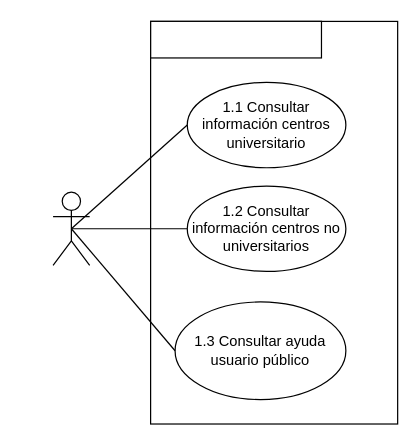
The diagram is 420 pixels wide and 447 high, and some of its shapes have lost their labels. The centre of each missing label's shape, as x and y in pixels:
"CU-1 Consultar información pública" goes at pixel 235 39.
"Usuario público" goes at pixel 71 228.
